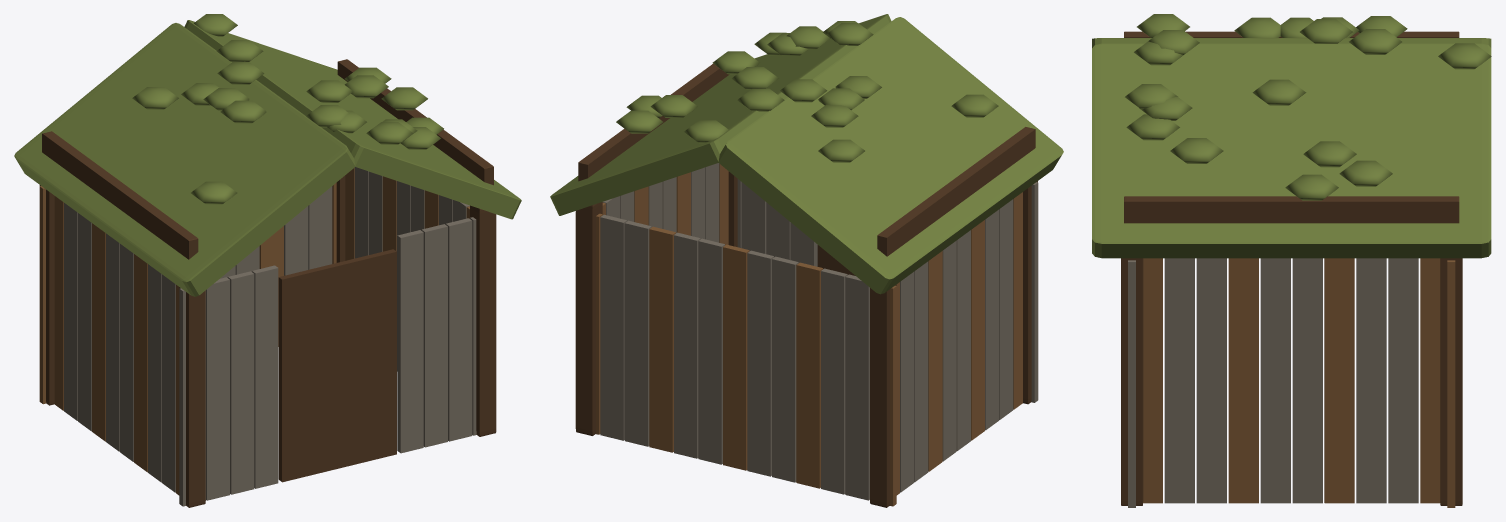
File: huette_feld.glb
3 renders of one model, left to right at view 1: azimuth 30°, elevation 25°; view 2: azimuth 150°, elevation 25°; view 3: azimuth 270°, elevation 25°, orthographic. The views are drawn at different scales.
Visible parts, largest first — view 1: Cube; view 2: Cube; view 3: Cube.
Part boxes in pixels (bbox=[...]): Cube: bbox=[14, 14, 521, 507]; Cube: bbox=[550, 14, 1063, 507]; Cube: bbox=[1092, 14, 1491, 507].
Size of the model in its own units: 2.79 by 2.71 by 2.5.
